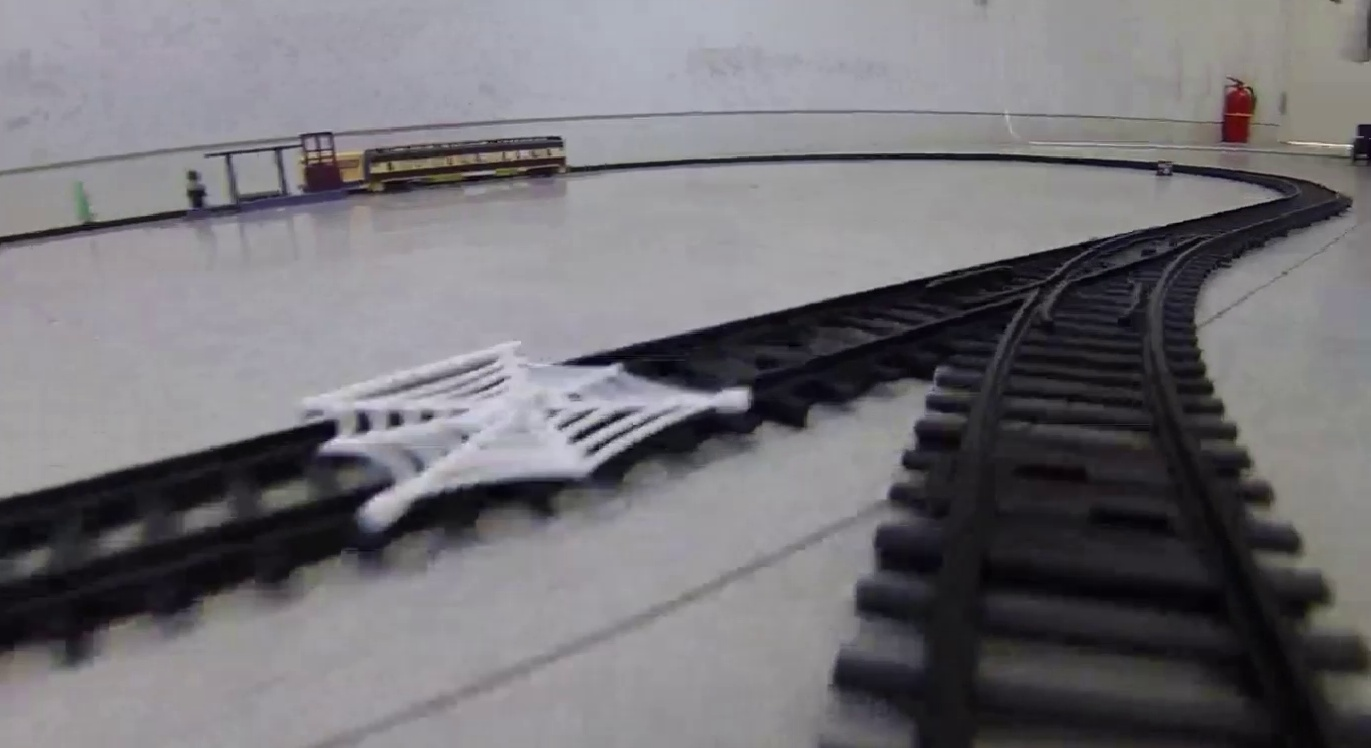web: (304, 338, 744, 538)
